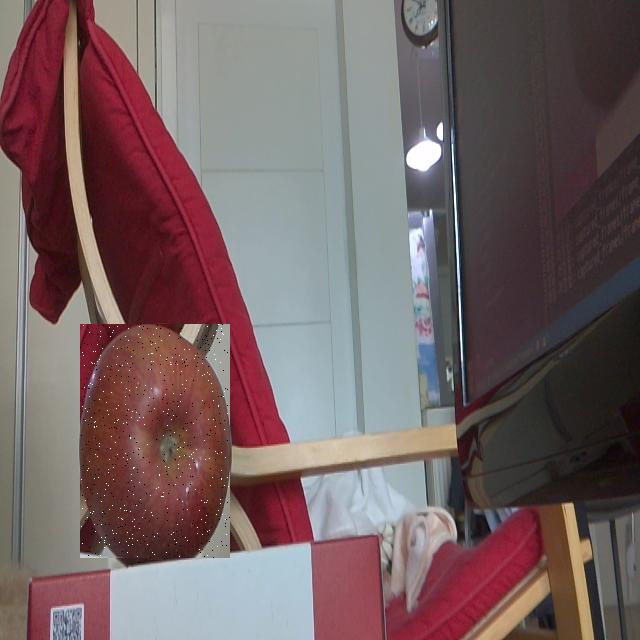apple: (80, 324, 230, 558)
